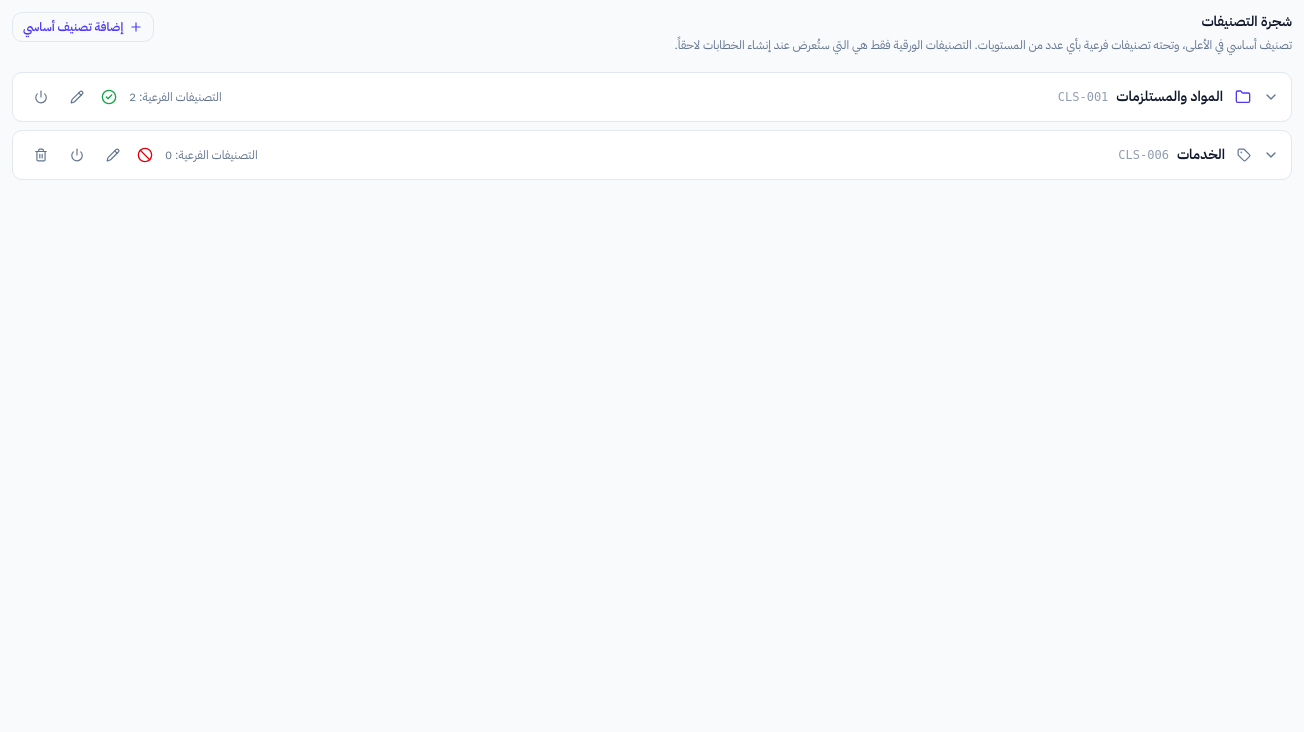
it: Classifications — tree rendering › reveals the items of a group when the group is expanded
Click the button "المواد والمستلزمات CLS-001 التصنيفات الفرعية: 2" at (1170, 96), box top-left (101, 86), bottom-right (1279, 106)
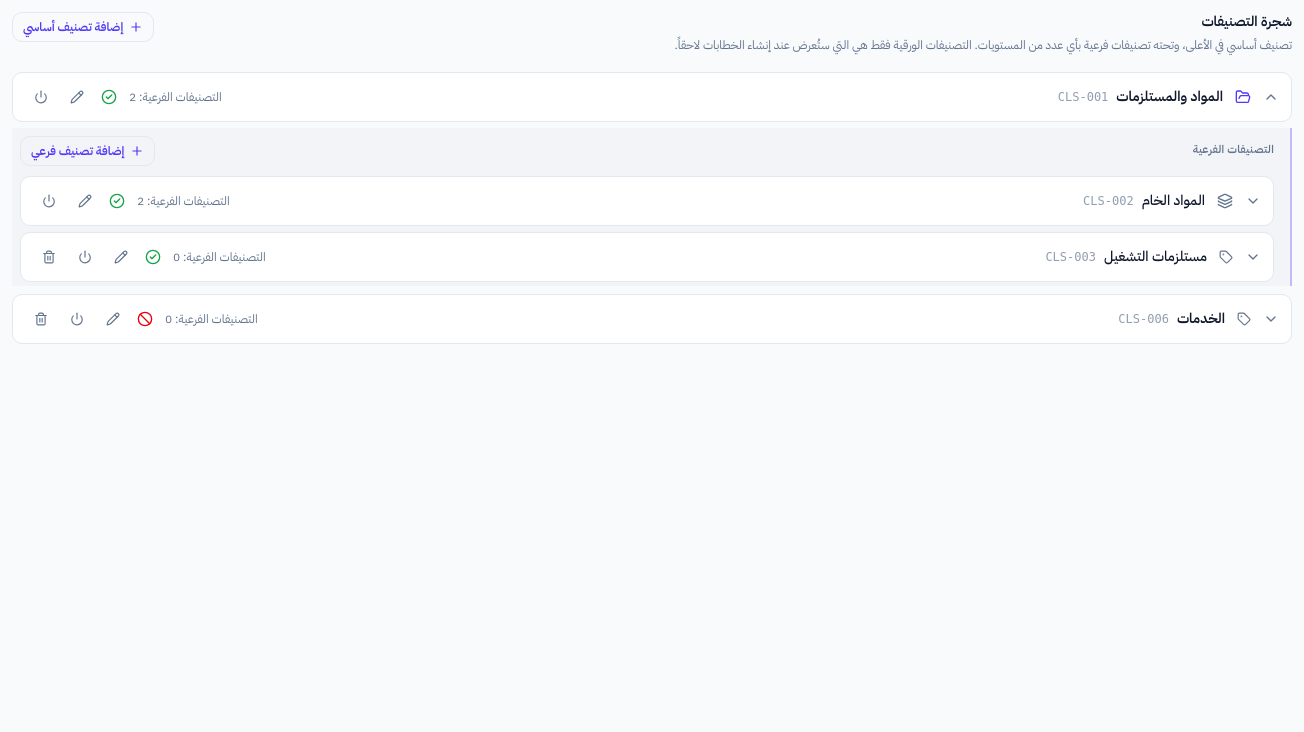
Click the button "المواد الخام CLS-002 التصنيفات الفرعية: 2" at (1173, 200), box top-left (109, 190), bottom-right (1261, 210)
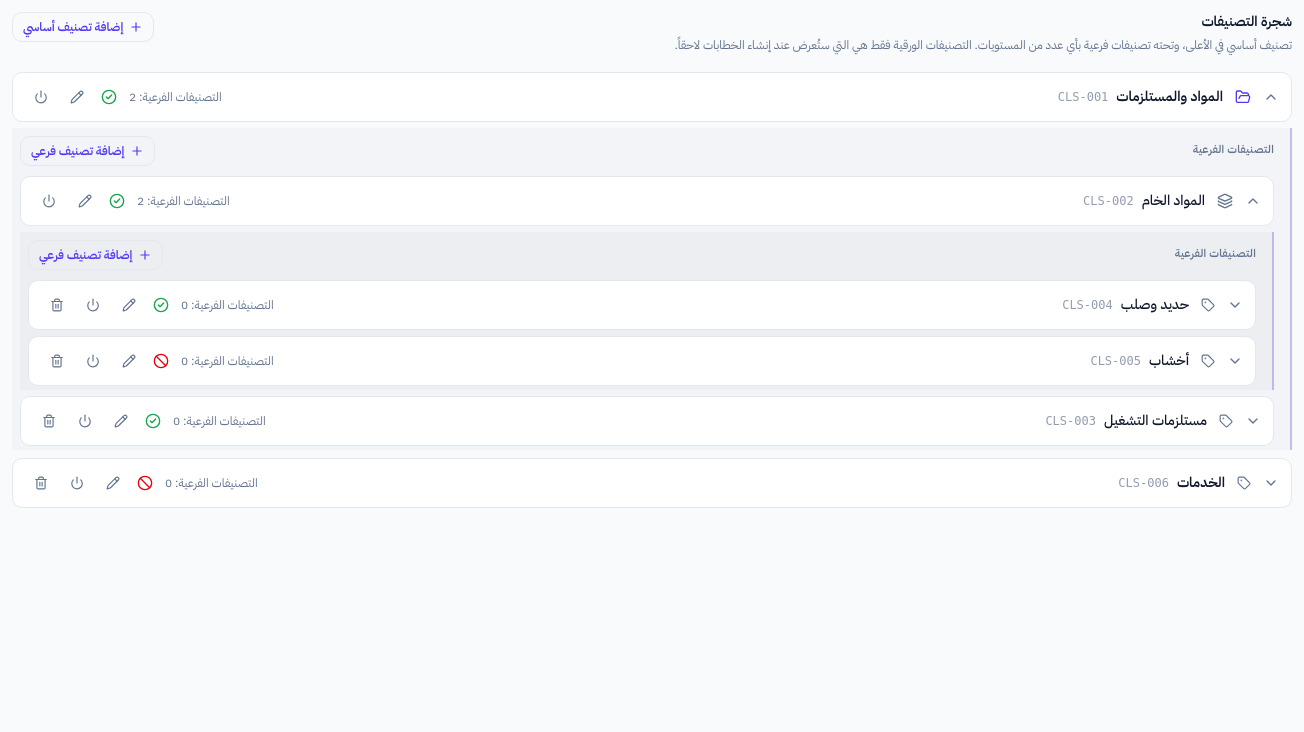
Check: the text "حديد وصلب" is shown, box top-left (1121, 294), bottom-right (1189, 314)
Check: the text "CLS-004" is shown, box top-left (1062, 296), bottom-right (1113, 312)
Check: the text "أخشاب" is shown, box top-left (1149, 350), bottom-right (1189, 370)
